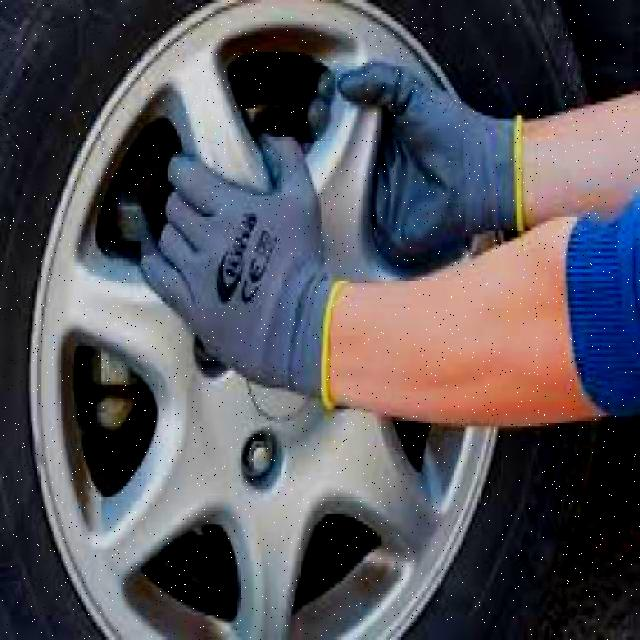Gloves: (139, 122, 332, 387), (306, 39, 537, 252)
